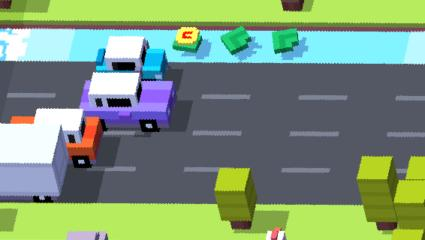hen: (267, 228, 287, 240)
obstacle: (81, 74, 176, 133), (10, 109, 102, 168), (0, 124, 63, 196), (96, 36, 168, 75), (359, 156, 394, 230), (215, 170, 256, 230), (395, 180, 425, 229), (405, 156, 425, 180), (66, 231, 111, 240), (281, 0, 309, 11)
timber: (220, 27, 251, 55), (271, 29, 300, 53), (173, 30, 203, 53)
